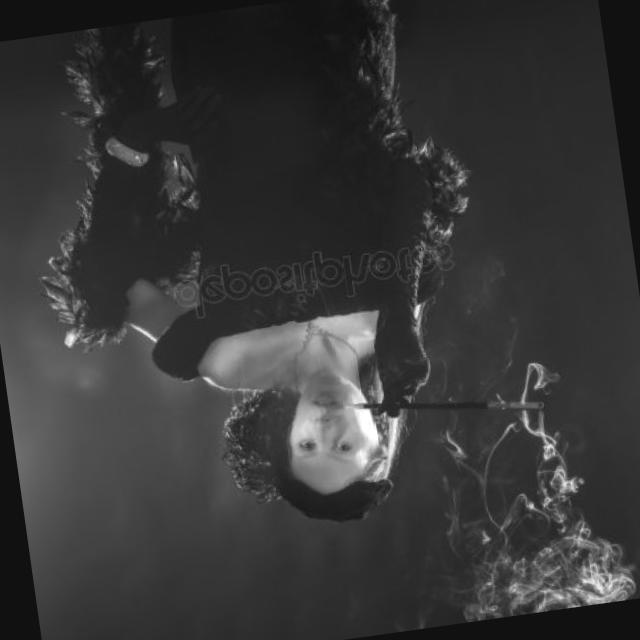smoke: (512, 386, 546, 440)
